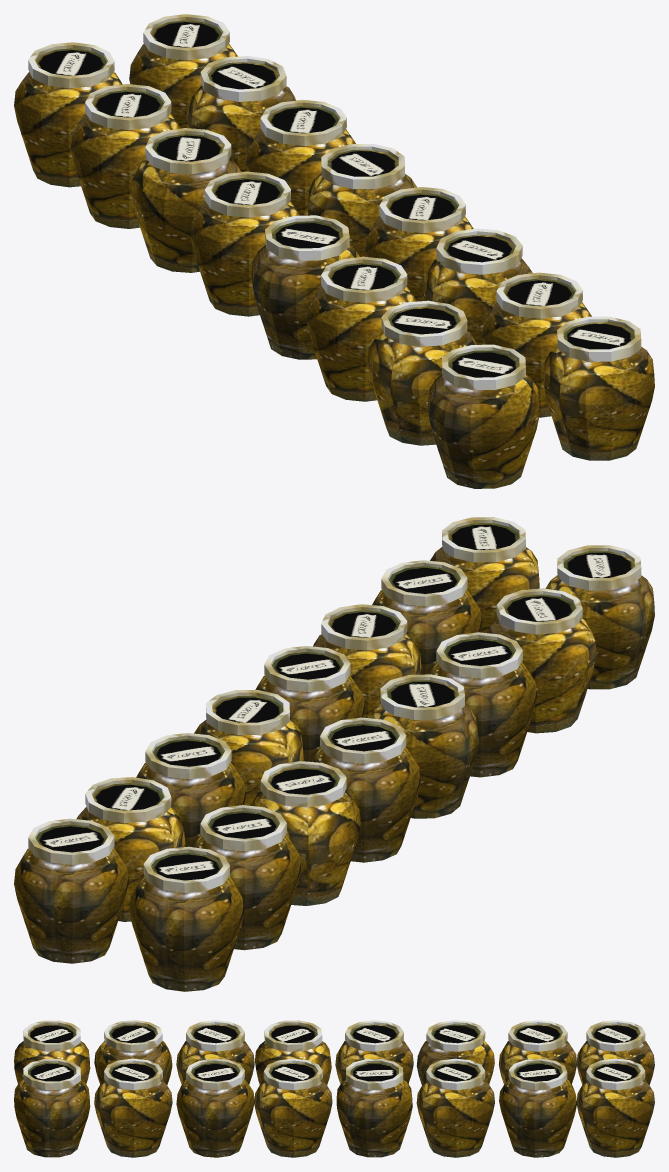
File: picklespile.fbx
3 views of the same model, one above another, from view 1: azimuth 30°, elevation 25°; view 2: azimuth 150°, elevation 25°; view 3: azimuth 270°, elevation 25° (orthographic). The views are drawn at different scales.
Visible parts, largest first — view 1: PickledJar.001; view 2: PickledJar.001; view 3: PickledJar.001.
Part boxes in pixels (bbox=[...]): PickledJar.001: bbox=[14, 14, 654, 488]; PickledJar.001: bbox=[14, 517, 654, 991]; PickledJar.001: bbox=[14, 1020, 654, 1157].
Bounding box in the file's own units: 87.94 × 43.33 × 333.
